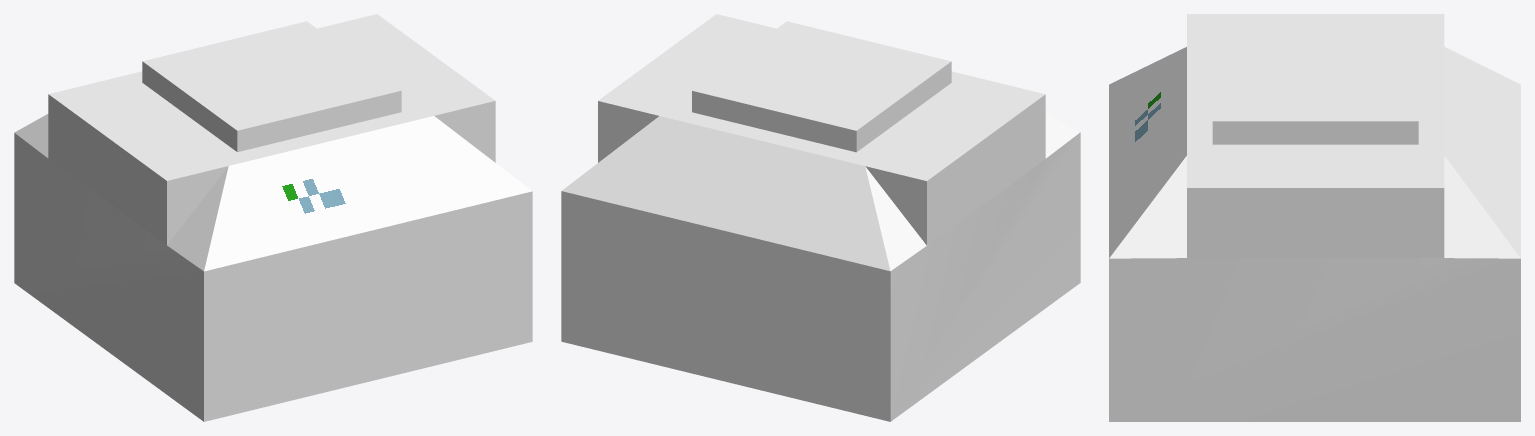
The model's file is inscriber_overlay.obj.
3 views of the same model, side by side, from view 1: azimuth 30°, elevation 25°; view 2: azimuth 150°, elevation 25°; view 3: azimuth 270°, elevation 25° (orthographic). The views are drawn at different scales.
Parts seen in each view (by area): view 1: base; view 2: base; view 3: base.
Boxes of the visible parts, <box> form: base: <box>14,14,532,421</box>; base: <box>561,14,1080,421</box>; base: <box>1109,14,1520,421</box>.
Size of the model in its own units: 1 by 0.6875 by 1.
